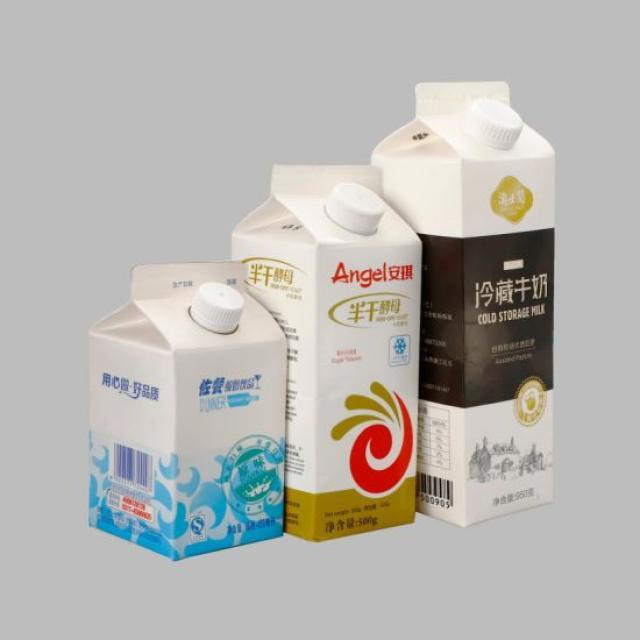Carton: (366, 68, 563, 526), (235, 140, 418, 554), (73, 242, 288, 567)
